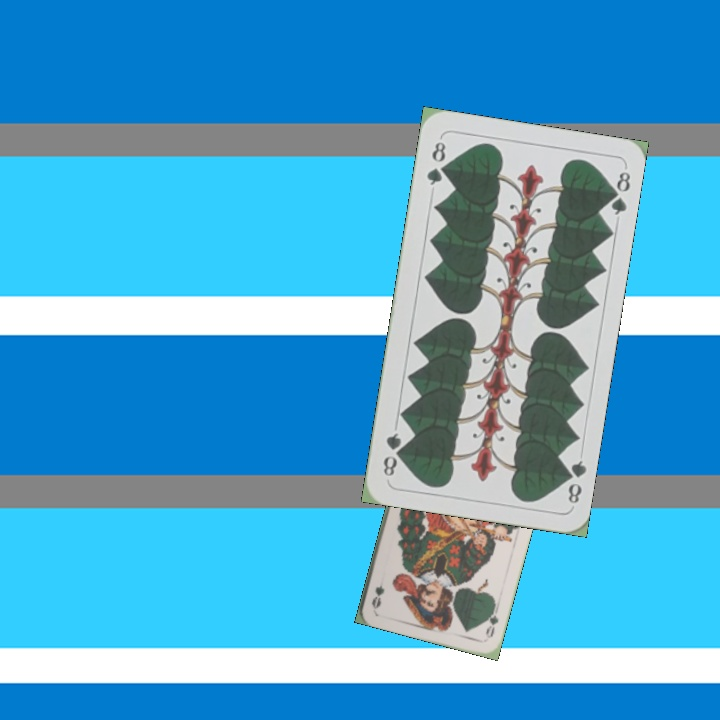G8: (559, 456, 589, 506), (422, 134, 448, 188)
GO: (481, 601, 501, 641)
